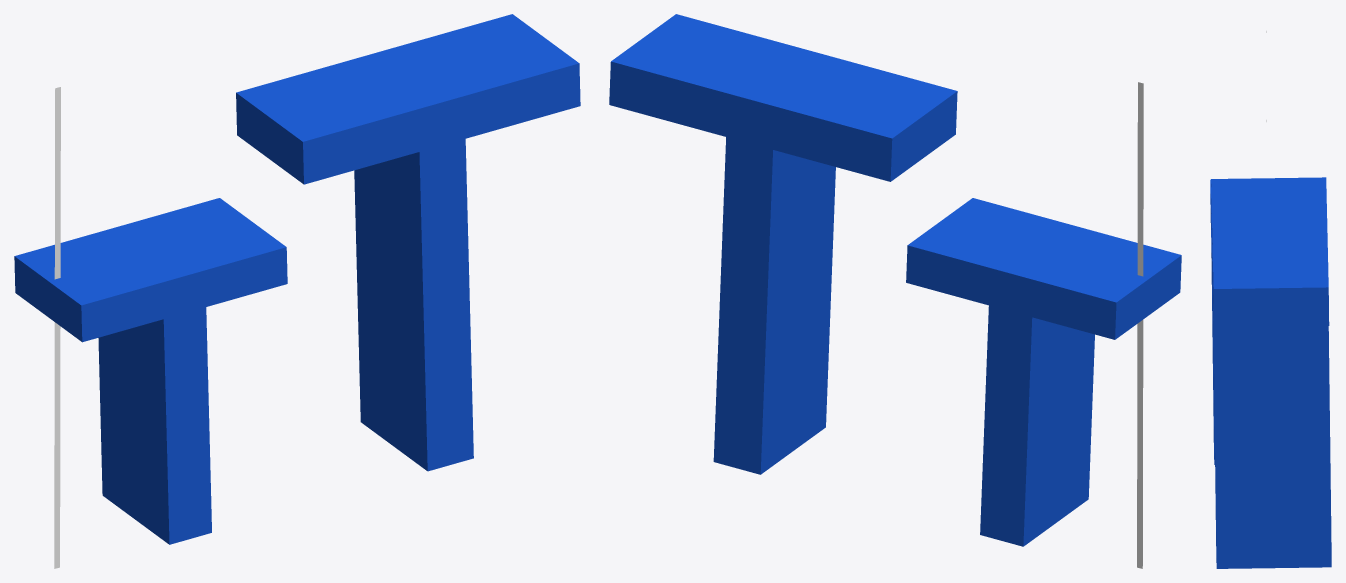
The picture shows the model from 3 angles, left to right: view 1: azimuth 30°, elevation 25°; view 2: azimuth 150°, elevation 25°; view 3: azimuth 270°, elevation 25°; orthographic projection. The views are drawn at different scales.
Parts seen in each view (by area): view 1: Mesh_0.024, Плоскость; view 2: Mesh_0.024, Плоскость; view 3: Mesh_0.024.
Part boxes in pixels (x1,y1,x2,y2): Mesh_0.024: (14, 14, 580, 544); Плоскость: (54, 87, 60, 568); Mesh_0.024: (609, 14, 1181, 546); Плоскость: (1137, 82, 1143, 568); Mesh_0.024: (1210, 177, 1331, 568).
Size of the model in its own units: 10.25 by 9.38 by 2.46.
